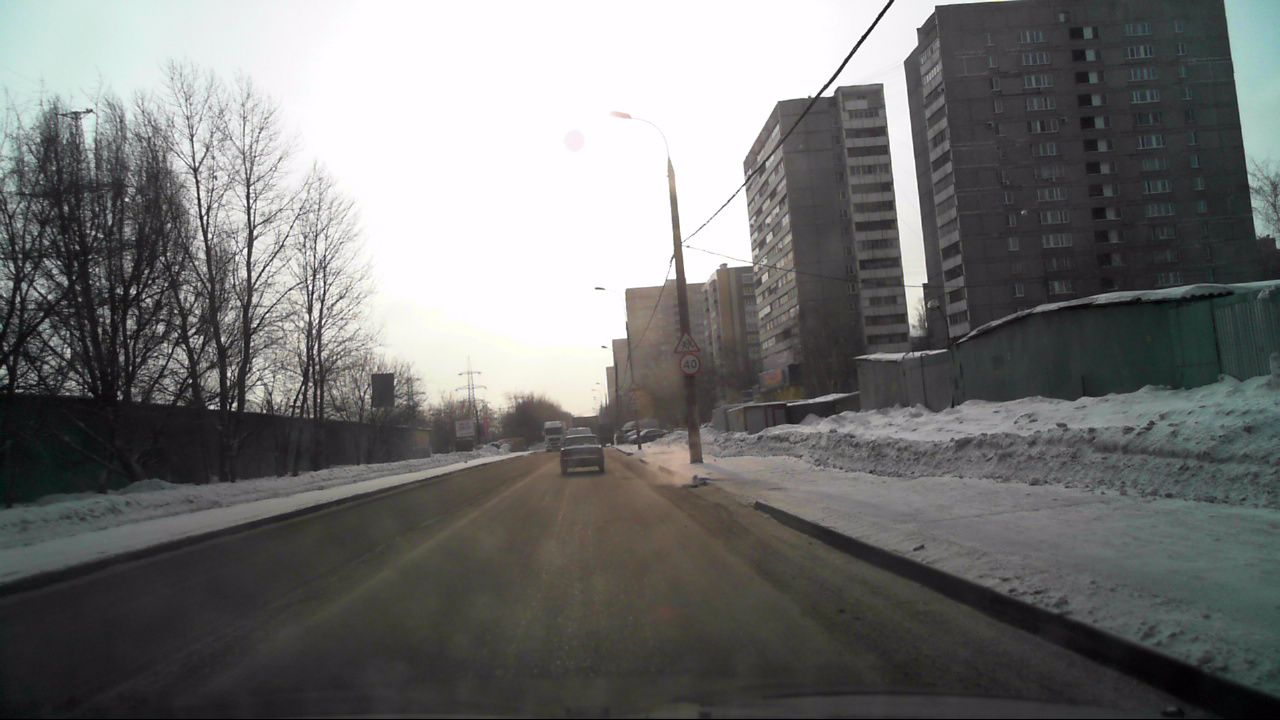speed_warning_40: (679, 354, 700, 374)
